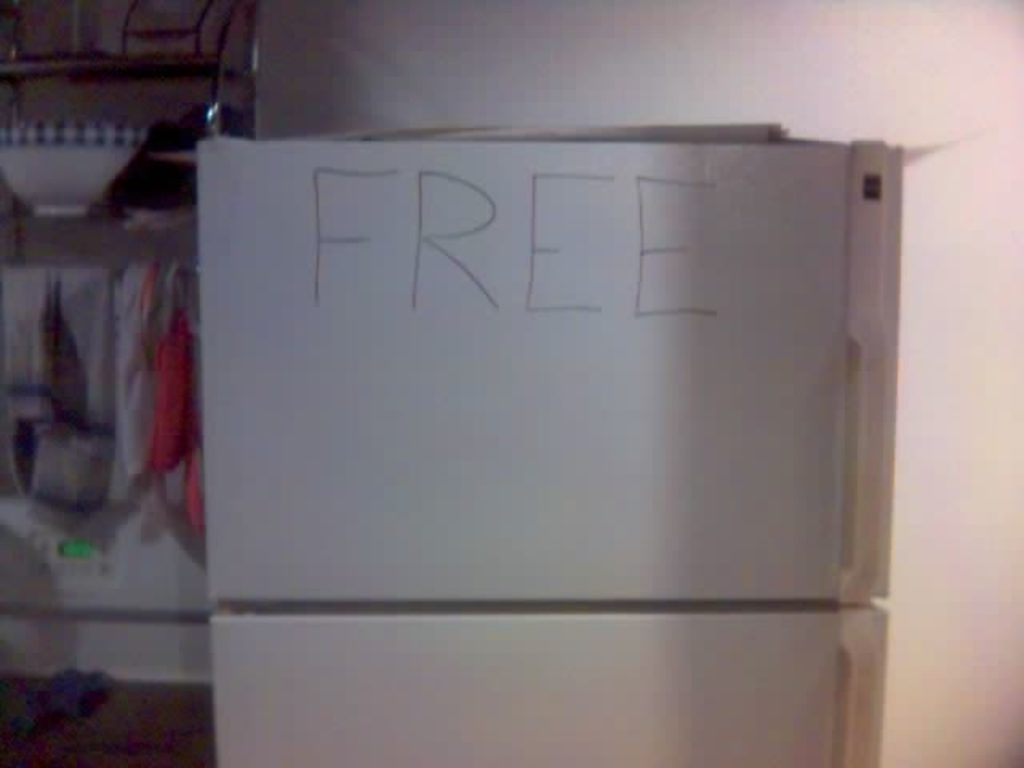handle: (842, 153, 892, 570), (829, 627, 887, 767)
refrigerator door: (200, 145, 886, 594), (211, 615, 892, 768)
